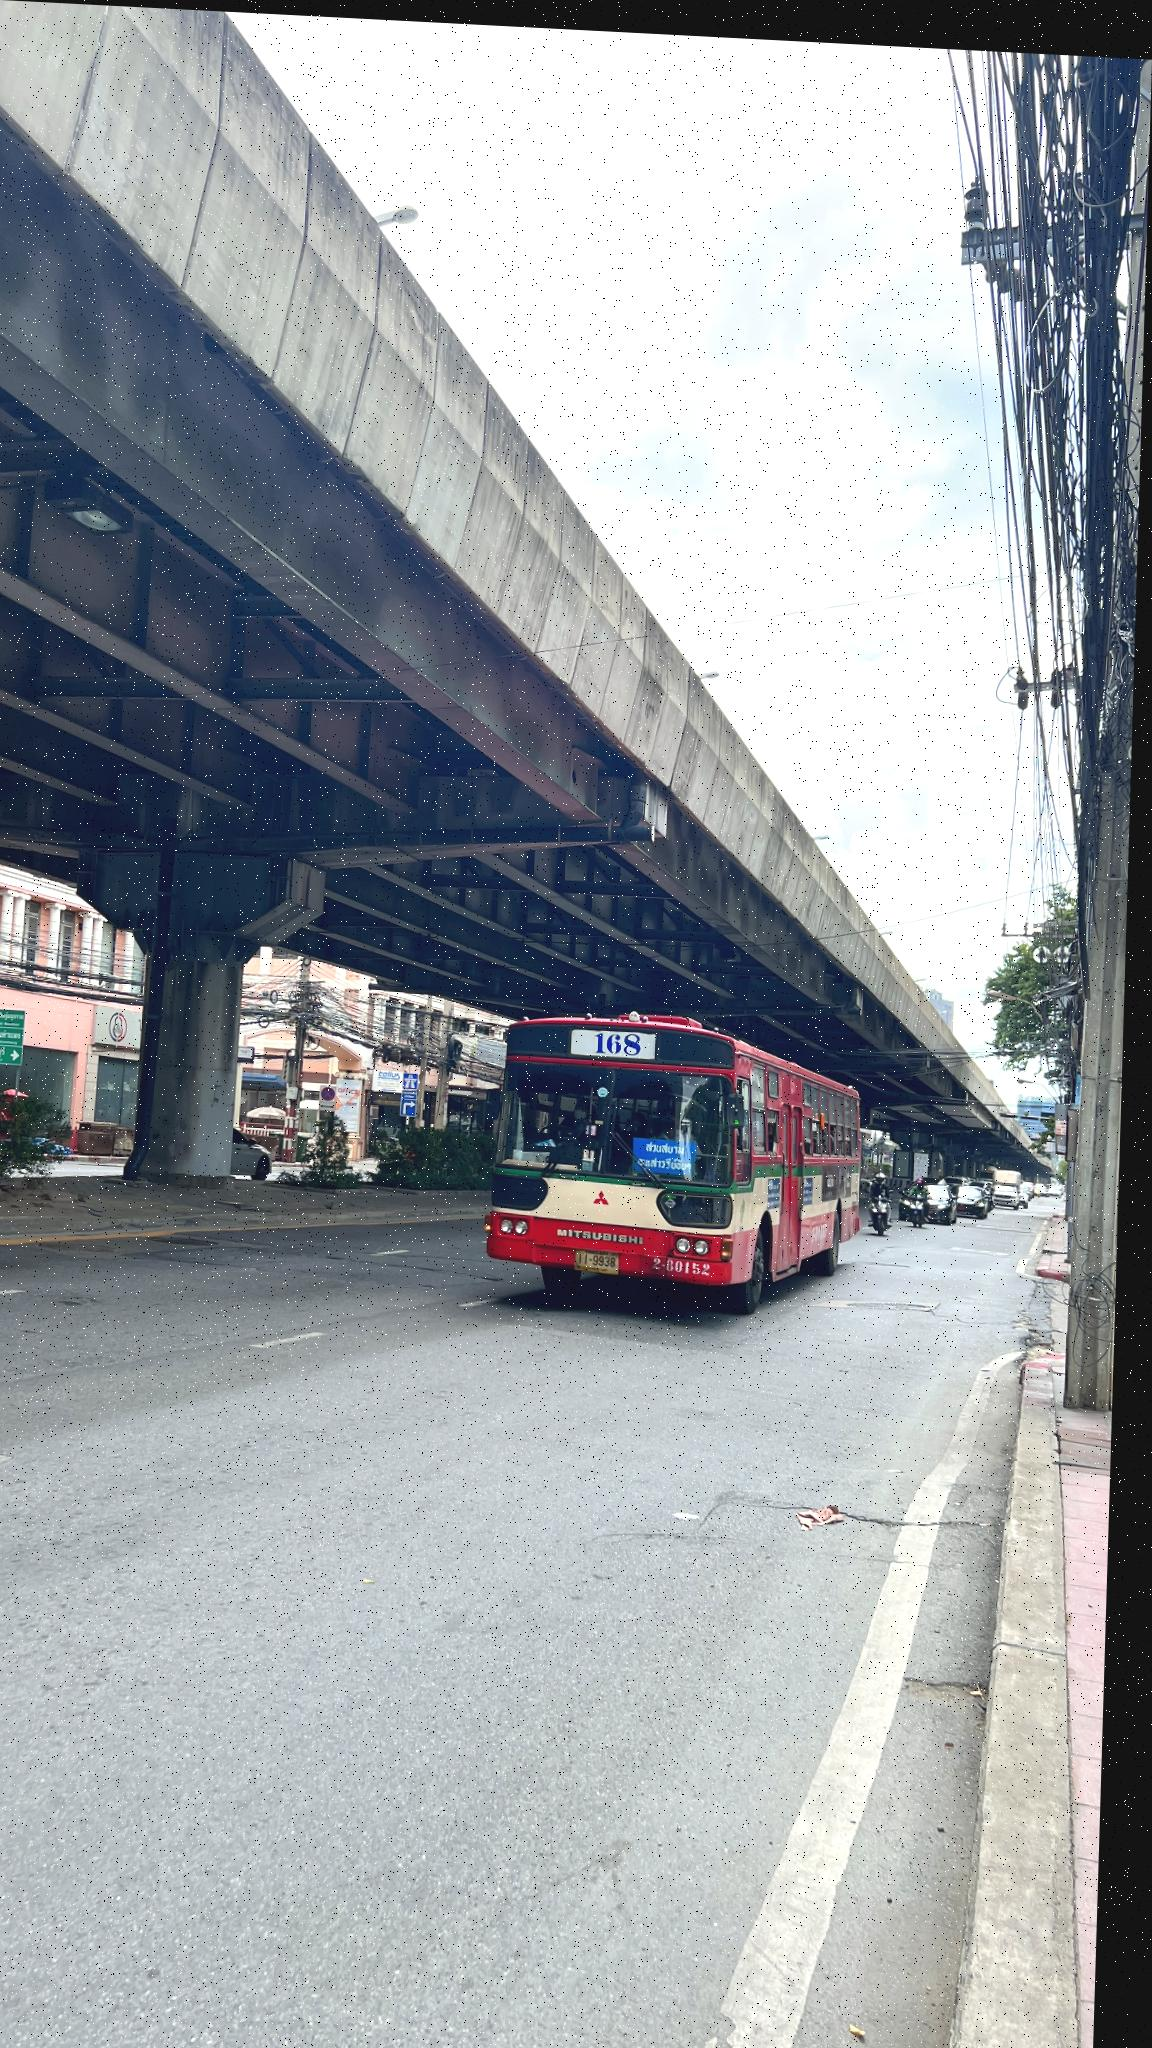BMTA-bus: (489, 1006, 869, 1308)
Bus Line Number: (578, 1021, 667, 1049)
Bus Side Number: (660, 1248, 726, 1269)
Destination Sign: (639, 1128, 703, 1166)
